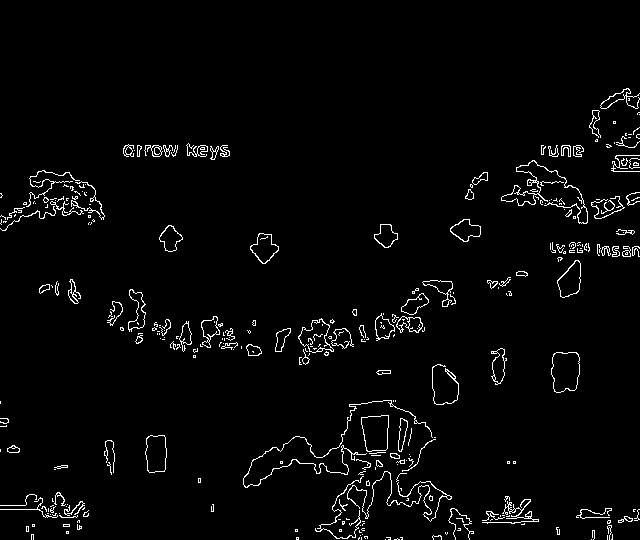down: (240, 227, 288, 271), (368, 219, 403, 257)
left: (444, 212, 493, 251)
up: (150, 220, 189, 260)
